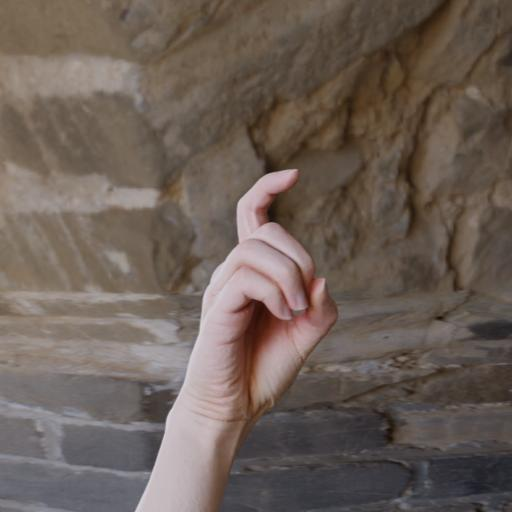X: (174, 150, 350, 423)
